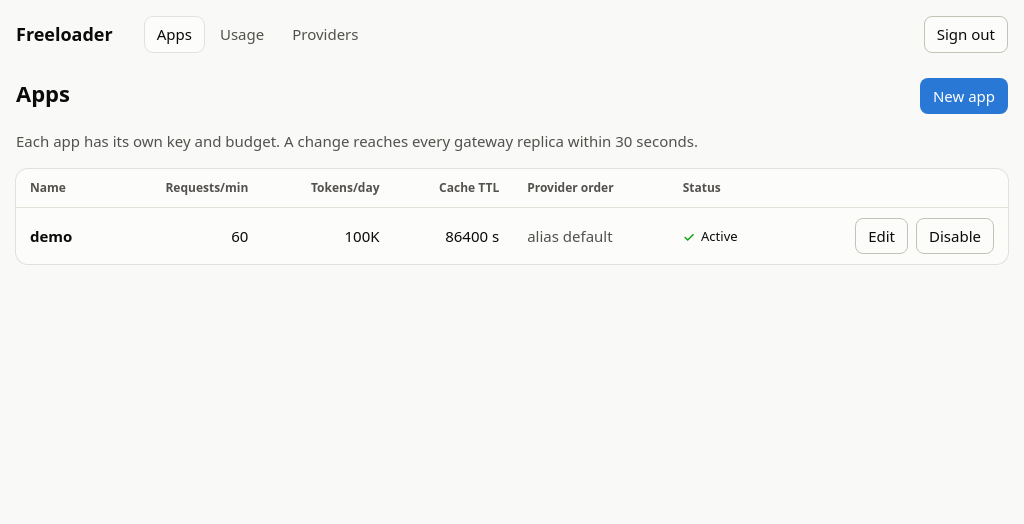
Test: Apps page › signs out when the token stops working mid-session
Click the button with aria-label "Disable demo" at x=955, y=236, box [916,218,994,254]
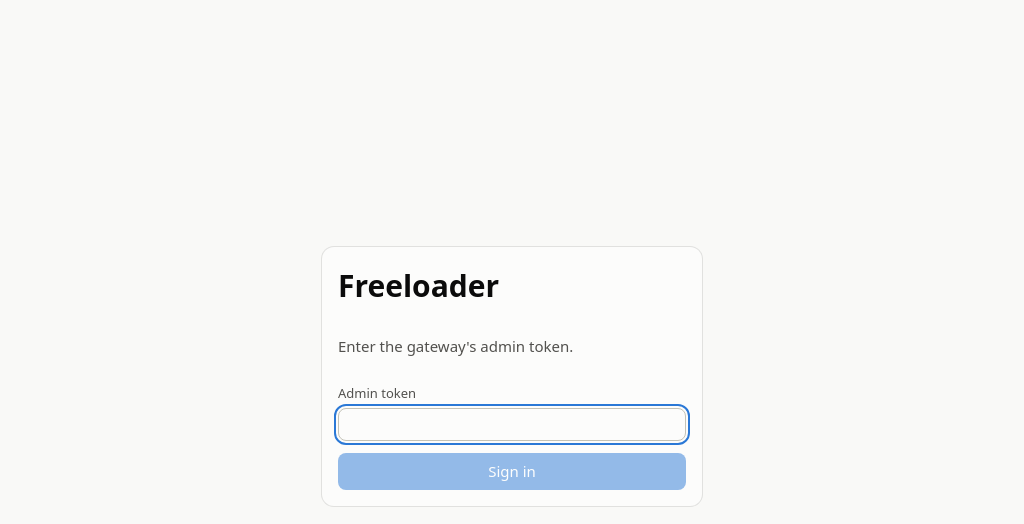
Now the password field labelled "Admin token" is shown, box [338,408,686,441]
